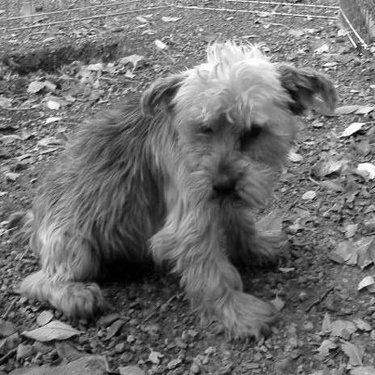dog: (13, 35, 342, 350)
